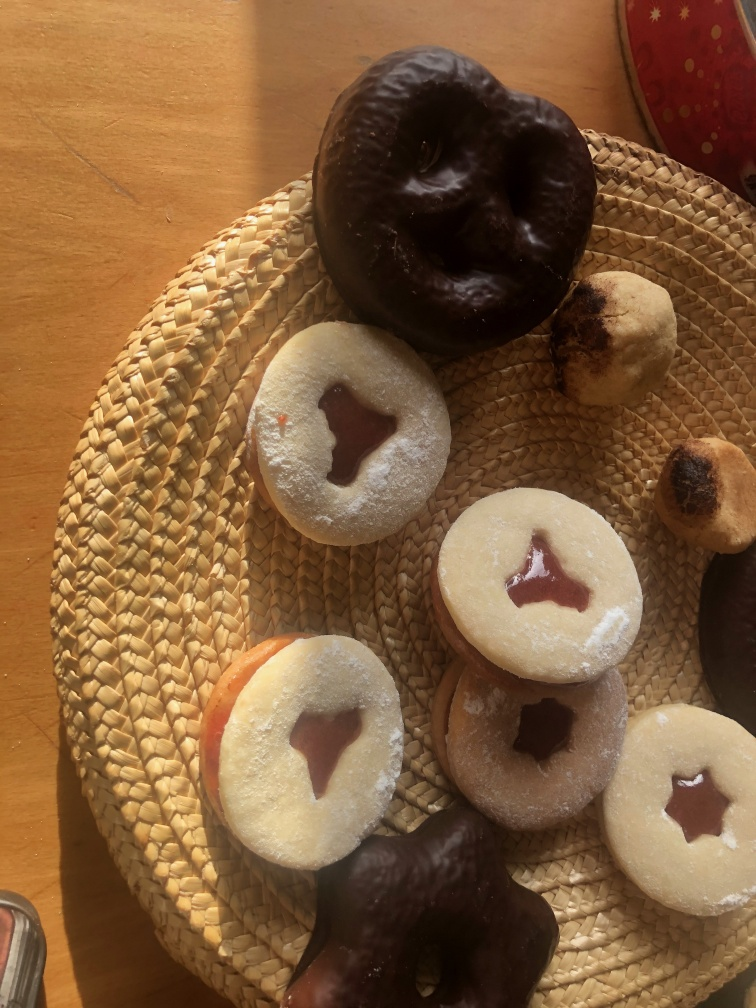bretzel: (302, 43, 600, 369)
christmas shortbread with jam: (192, 625, 405, 882), (243, 322, 453, 556), (433, 479, 644, 684), (428, 649, 633, 824), (604, 701, 756, 923)
snowball: (554, 267, 680, 413), (654, 435, 756, 561)
star: (280, 799, 560, 1007)
